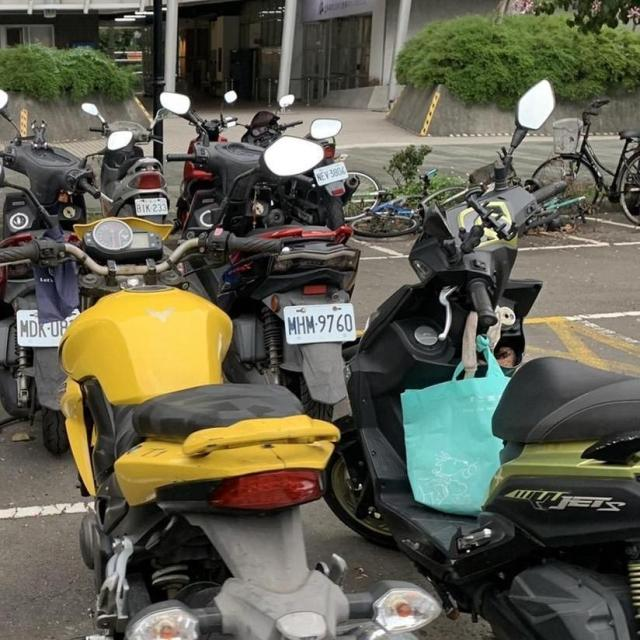W: (276, 296, 364, 348), (307, 159, 352, 189), (130, 192, 173, 220)
